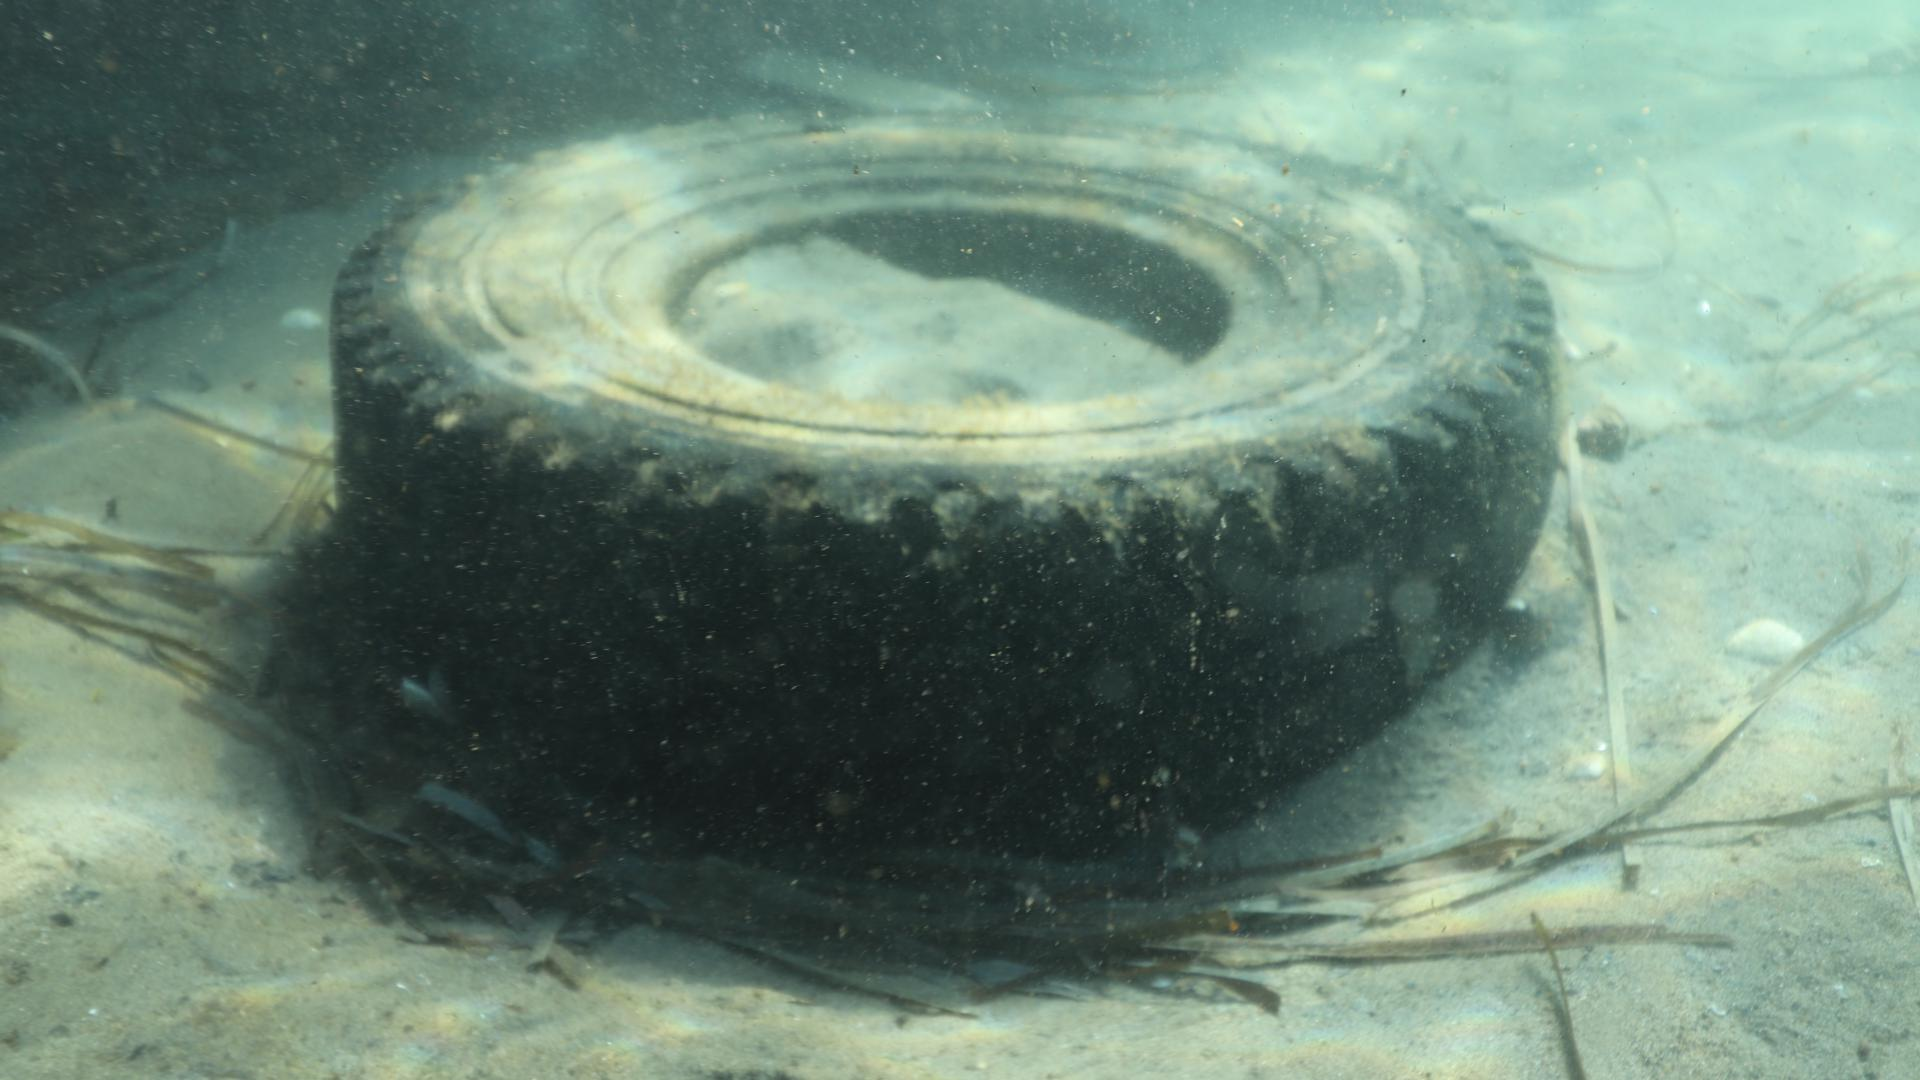tire: (328, 109, 1561, 860)
